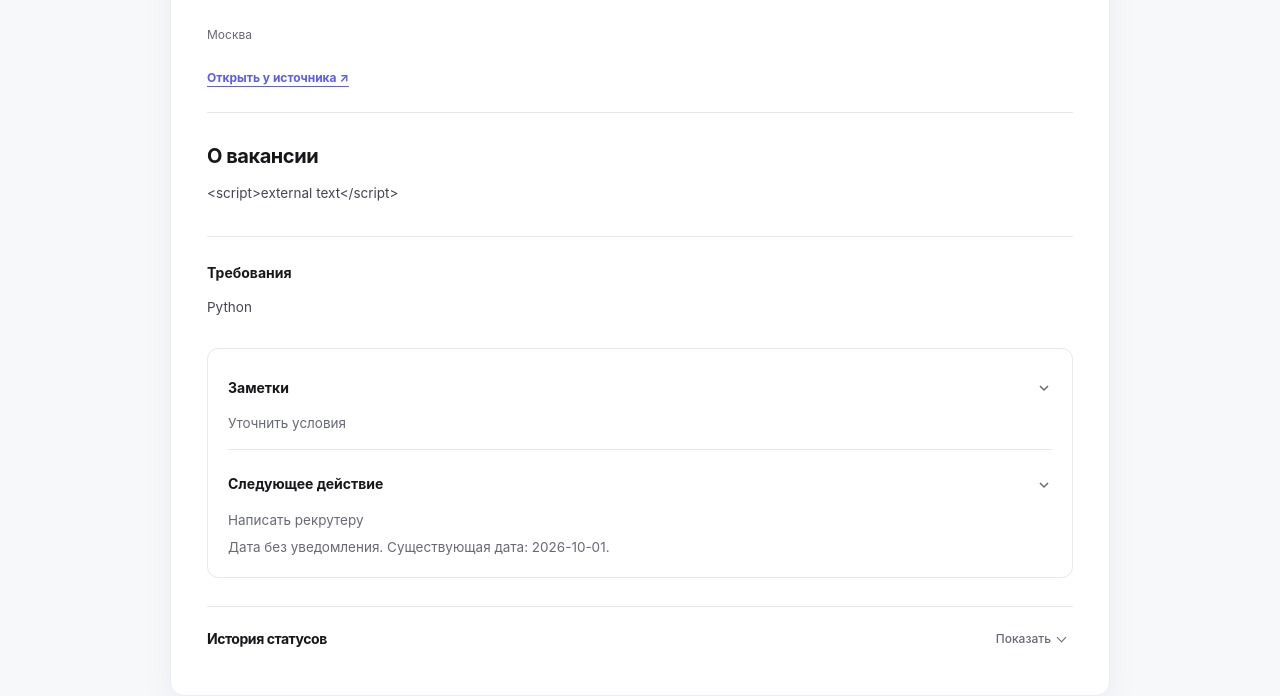
shows the same safe not-found state for unavailable history
The width and height of the screenshot is (1280, 696).
(page scrolled)
Click the button with aria-label "Показать историю статусов". click: (1030, 639)
box: [988,619,1073,659]
(page scrolled)
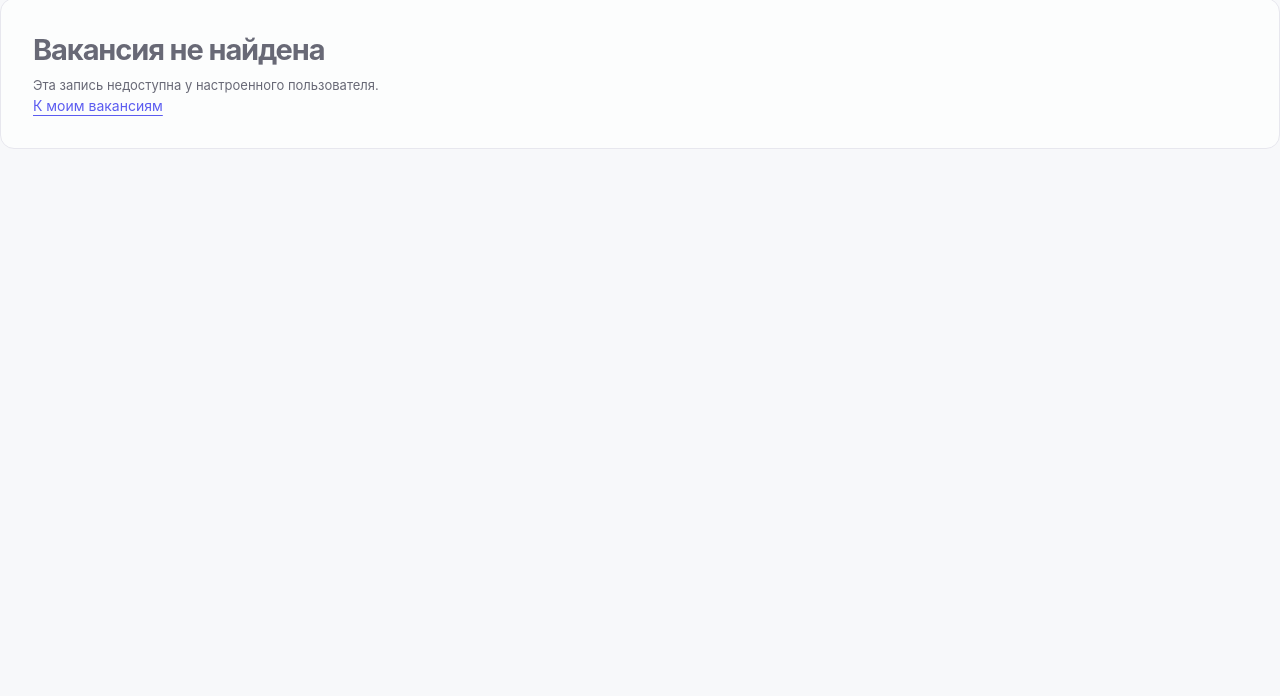
Check: the heading "Вакансия не найдена" is shown, box [33,32,324,67]
